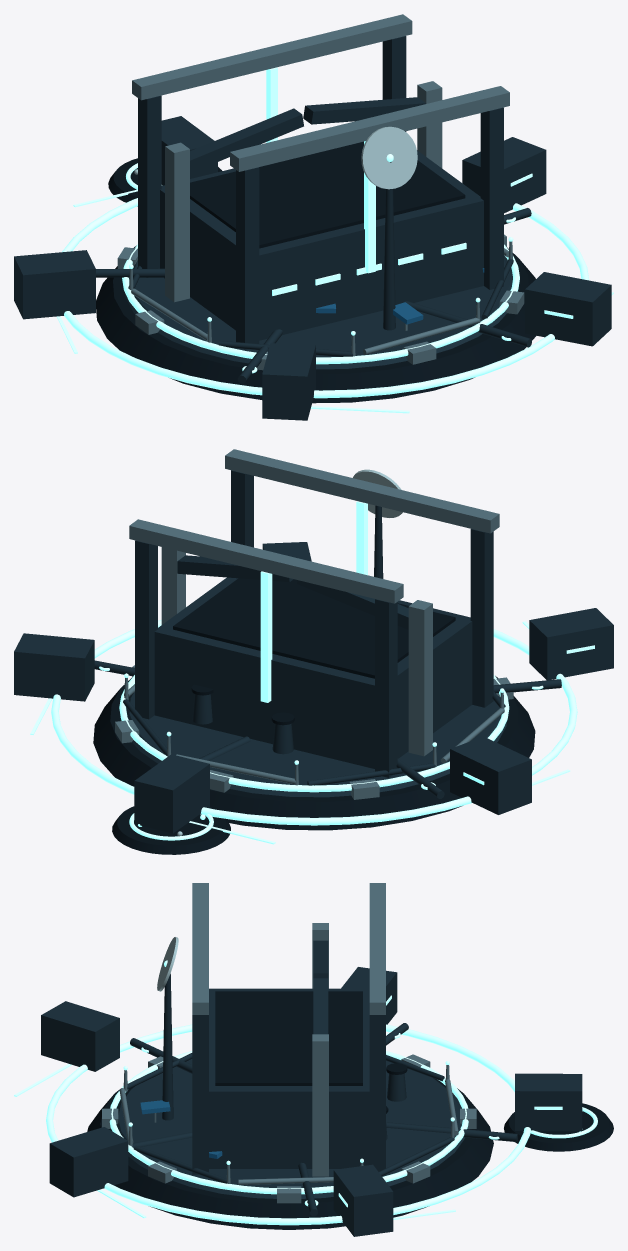
Rendered from roboticsFactory-stage3.glb.
3 renders of one model, top to bottom at view 1: azimuth 30°, elevation 25°; view 2: azimuth 150°, elevation 25°; view 3: azimuth 270°, elevation 25°, orthographic. The views are drawn at different scales.
Visible parts, largest first — view 1: assembly-hall, factory-roof, armored-foundation, upper-deck, assembly-gantry--2.25, assembly-gantry-2.25, district-grid-2, crane-tower (×2), industrial-annex-0, industrial-annex-2, crane-arm (×2), gantry-support--3.25-2.25 (+18 smaller); view 2: assembly-hall, factory-roof, armored-foundation, upper-deck, assembly-gantry--2.25, assembly-gantry-2.25, crane-tower (×2), district-grid-2, industrial-annex-1, industrial-annex-4, industrial-annex-2, industrial-annex-3 (+17 smaller); view 3: assembly-hall, factory-roof, upper-deck, armored-foundation, district-grid-2, industrial-annex-0, industrial-annex-1, industrial-annex-3, industrial-annex-4, perimeter-light, gantry-support-3.25-2.25, gantry-support-3.25--2.25 (+13 smaller).
Boxes of the visible parts, box(x1,y1,x2,y2) form: assembly-hall: box(160, 150, 483, 340); factory-roof: box(190, 141, 465, 248); armored-foundation: box(96, 245, 536, 403); upper-deck: box(124, 255, 518, 369); assembly-gantry--2.25: box(132, 14, 412, 100); assembly-gantry-2.25: box(230, 86, 509, 171); district-grid-2: box(62, 198, 589, 398); crane-tower (×2): box(165, 81, 442, 302); industrial-annex-0: box(525, 272, 611, 346); industrial-annex-2: box(14, 250, 95, 319); crane-arm (×2): box(190, 97, 425, 173); gantry-support--3.25-2.25: box(236, 167, 259, 349); assembly-hall: box(154, 577, 472, 768); factory-roof: box(173, 578, 455, 678); armored-foundation: box(93, 676, 535, 830); upper-deck: box(121, 692, 506, 797); assembly-gantry--2.25: box(129, 519, 403, 603); assembly-gantry-2.25: box(225, 449, 499, 533); crane-tower (×2): box(161, 547, 432, 756); district-grid-2: box(51, 620, 577, 825); industrial-annex-1: box(529, 608, 613, 680); industrial-annex-4: box(14, 633, 94, 701); industrial-annex-2: box(450, 736, 531, 814); industrial-annex-3: box(134, 754, 209, 833); assembly-hall: box(209, 988, 369, 1168); factory-roof: box(215, 991, 362, 1085); upper-deck: box(111, 1059, 464, 1198); armored-foundation: box(87, 1078, 493, 1229); district-grid-2: box(46, 1024, 530, 1225); industrial-annex-0: box(49, 1127, 128, 1197); industrial-annex-1: box(41, 1001, 119, 1071); industrial-annex-3: box(515, 1073, 582, 1131); industrial-annex-4: box(333, 1164, 393, 1236); perimeter-light: box(109, 1051, 468, 1194); gantry-support-3.25-2.25: box(192, 1015, 208, 1174); gantry-support-3.25--2.25: box(369, 1015, 385, 1171).
Size of the model in its own units: 14.25 by 5.91 by 15.7.
